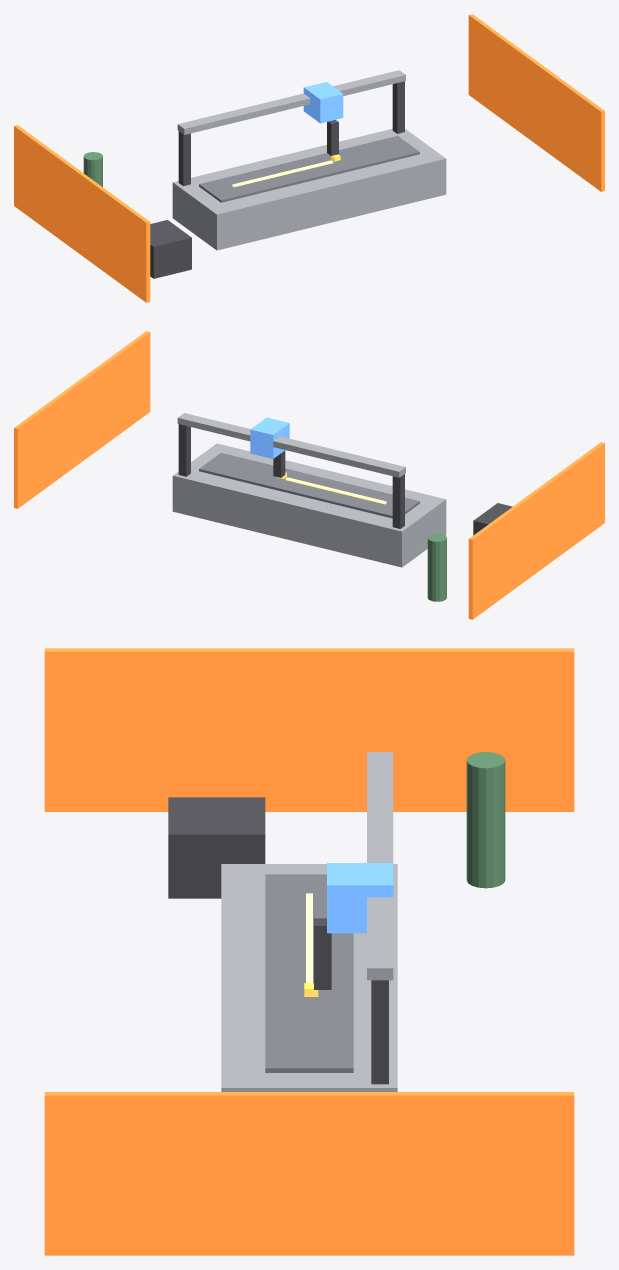
The model's file is wing-robot-weld-bead.glb.
3 views of the same model, one above another, from view 1: azimuth 30°, elevation 25°; view 2: azimuth 150°, elevation 25°; view 3: azimuth 270°, elevation 25° (orthographic). The views are drawn at different scales.
Visible parts, largest first — view 1: Robot · weld torch on a seam carriage; view 2: Robot · weld torch on a seam carriage; view 3: Robot · weld torch on a seam carriage.
Part boxes in pixels (bbox=[...]): Robot · weld torch on a seam carriage: bbox=[14, 14, 604, 302]; Robot · weld torch on a seam carriage: bbox=[14, 331, 604, 619]; Robot · weld torch on a seam carriage: bbox=[44, 648, 574, 1255].
Bounding box in the file's own units: 12 × 2.5 × 6.
